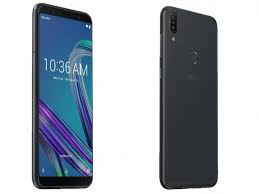asus: (27, 1, 99, 190), (154, 2, 223, 192)
